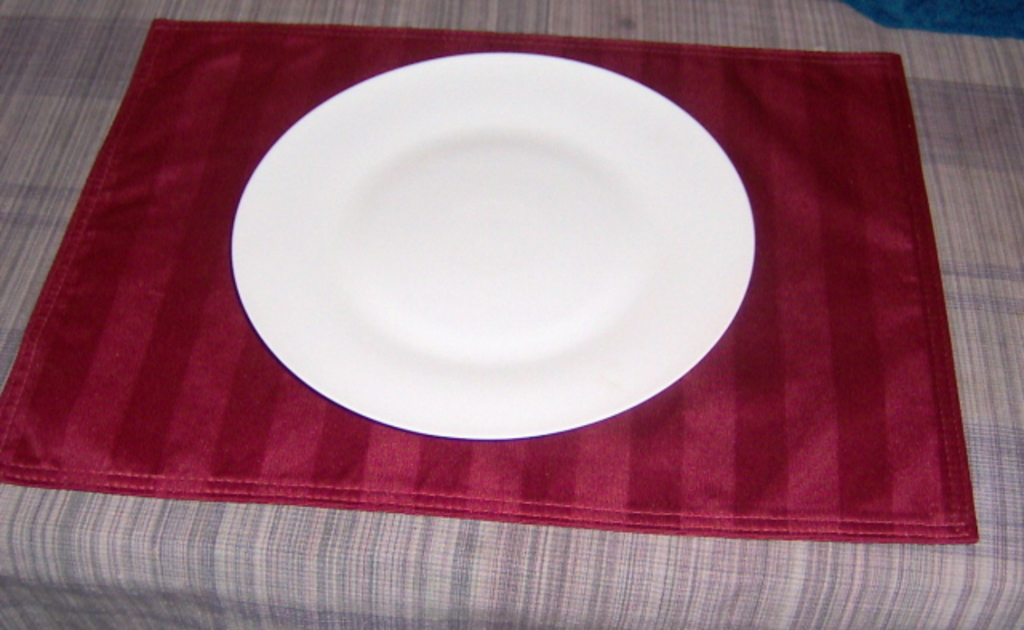plate: (230, 50, 754, 442)
